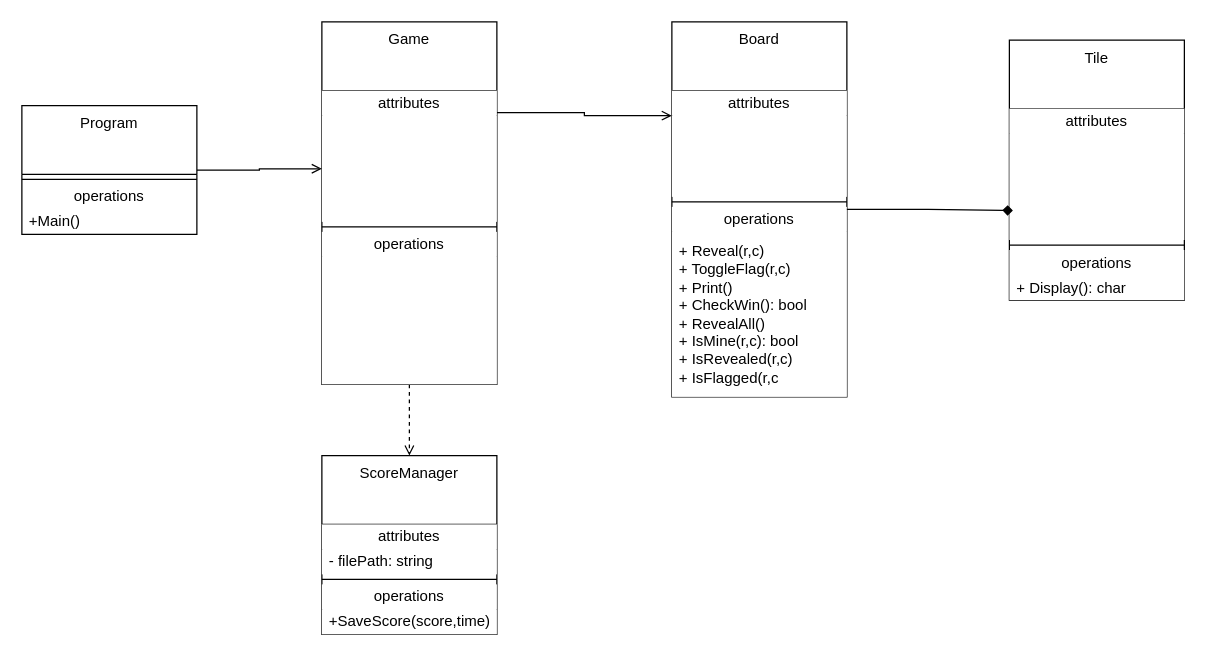
Some shapes in this 1206 by 656 pixel diagram are drawn without their labels. Here are the shapes that lost their labels. From the top down, the centre of each, then its label:
(408,168): - board: Board - score: int - startTime: DateTime - scoreManager: ScoreManager
(758,155): - grid: Tile[,] - rows: int - cols: int - mineCount: int
(1096,186): + IsMine: bool + IsRevealed: bool + IsFlagged: bool + AdjacentMines: int
(408,320): + Start() - ParseInput() - DisplayStats() - GameOver() - Win() - QuitGame()
